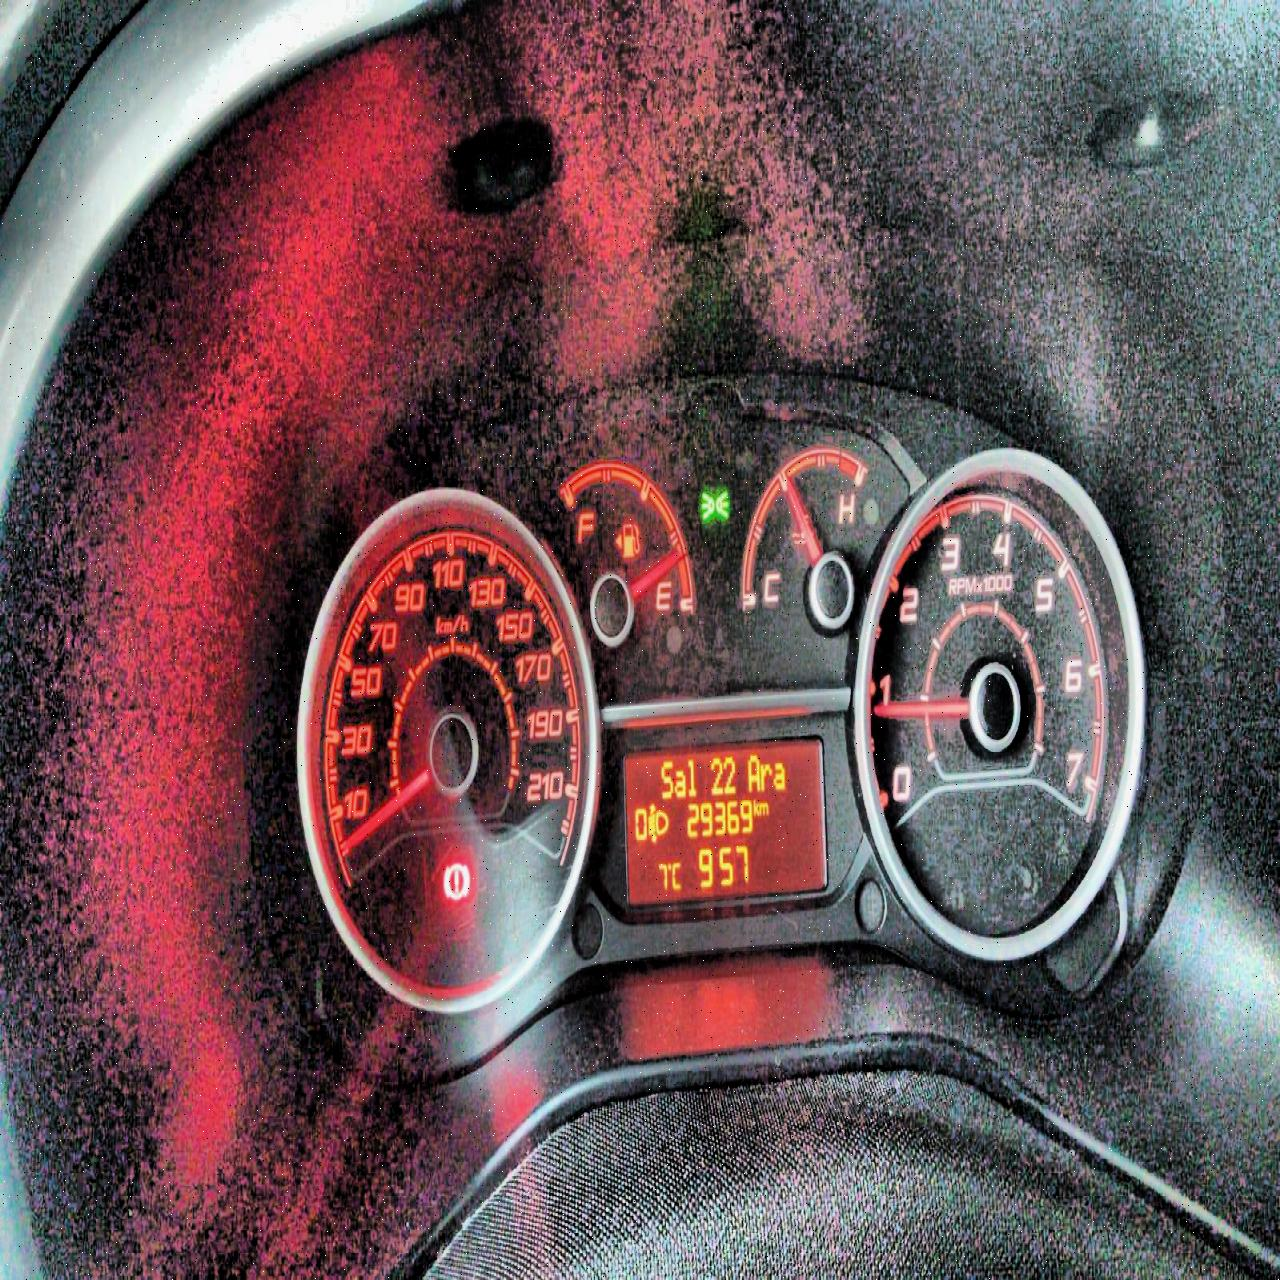0: (634, 804, 648, 840)
2: (723, 752, 737, 793), (711, 753, 723, 795), (687, 800, 699, 839)
3: (715, 797, 725, 836)
5: (718, 846, 734, 888)
6: (727, 797, 739, 836)
7: (735, 842, 749, 884), (657, 860, 667, 890)
9: (698, 846, 712, 888), (739, 796, 752, 834), (700, 800, 713, 836)
X: (659, 756, 672, 802), (747, 753, 760, 792), (686, 756, 698, 797), (674, 765, 686, 803), (773, 760, 786, 790), (760, 759, 771, 789), (671, 858, 680, 890), (759, 799, 768, 816), (753, 796, 758, 817)
odometer: (620, 732, 831, 905)
